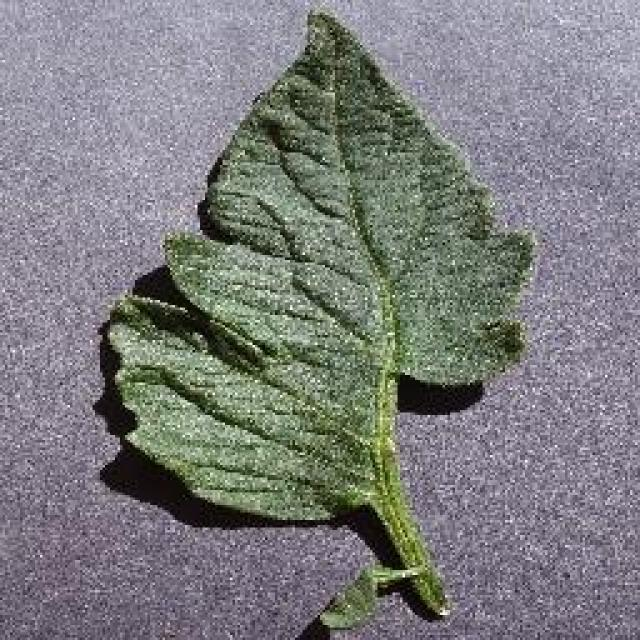Tomato healthy leaf: (106, 16, 534, 599)
